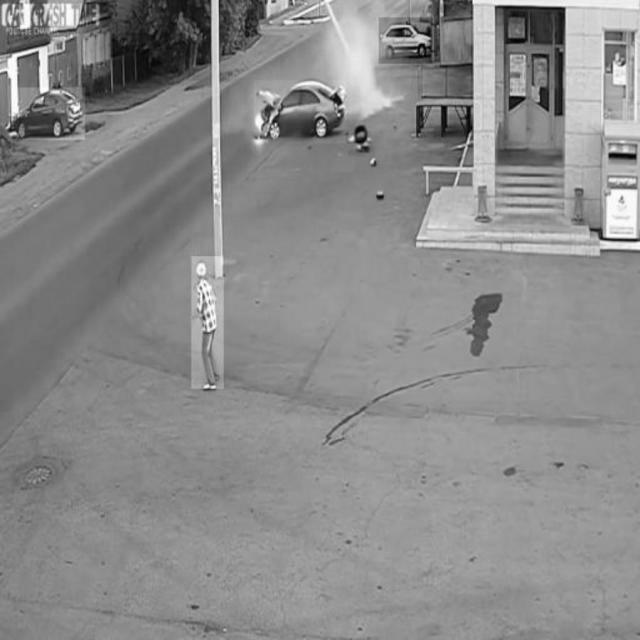person: (192, 257, 224, 389)
vehicle: (254, 80, 346, 144), (15, 89, 86, 141), (379, 18, 433, 64)
